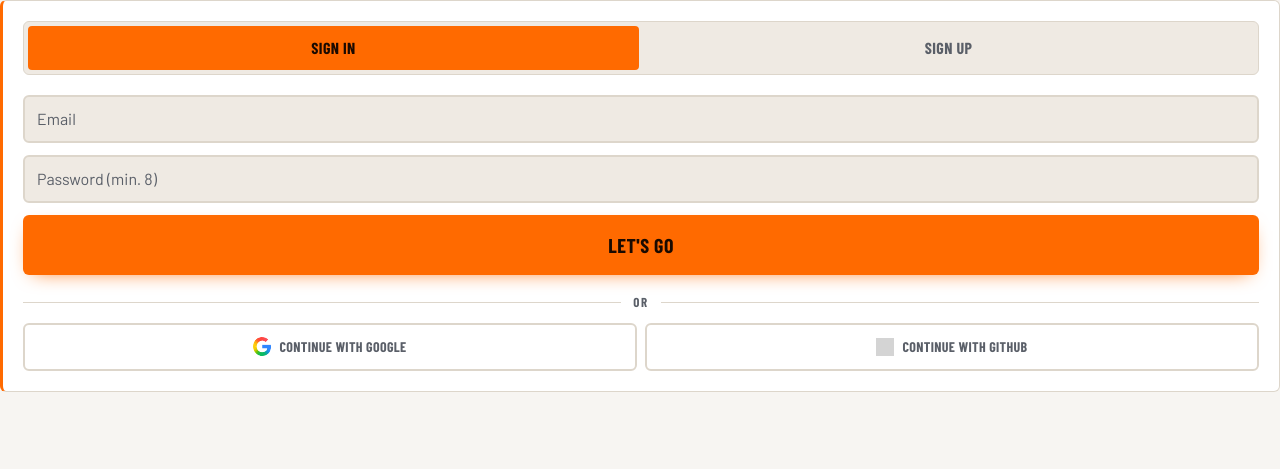
AuthForms › asks for a name when signing up
This screenshot has width=1280, height=469.
Click the button "Sign up": (948, 48) x1=643 y1=26 x2=1254 y2=70
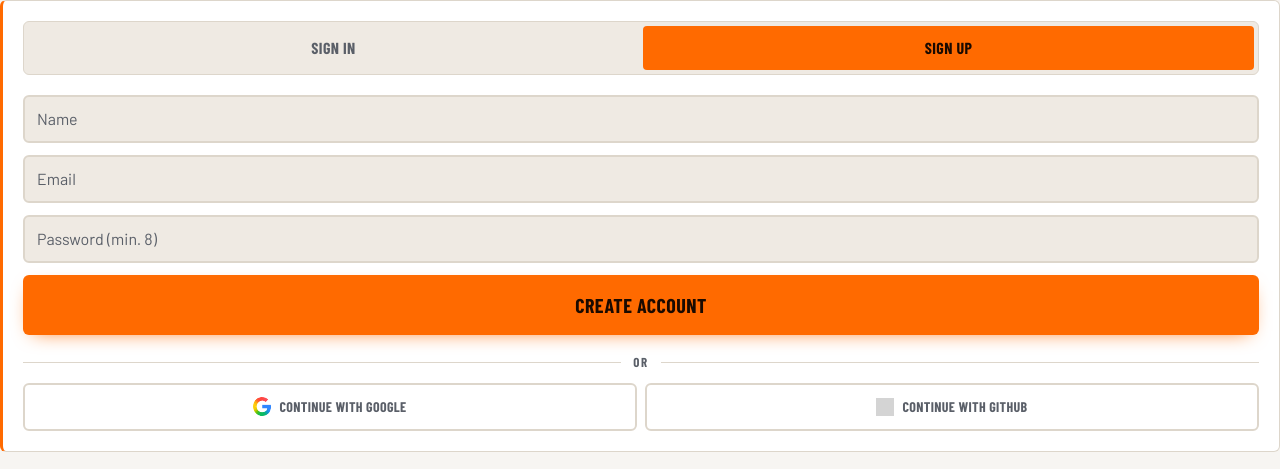
Now the field labelled "Name" is shown, box x1=23 y1=95 x2=1259 y2=143
